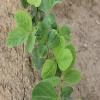Soyabean leaf: (6, 27, 30, 47), (14, 10, 33, 32), (57, 48, 73, 72), (52, 35, 65, 61), (41, 60, 57, 80), (63, 69, 82, 84), (26, 30, 37, 54), (41, 75, 61, 87)
